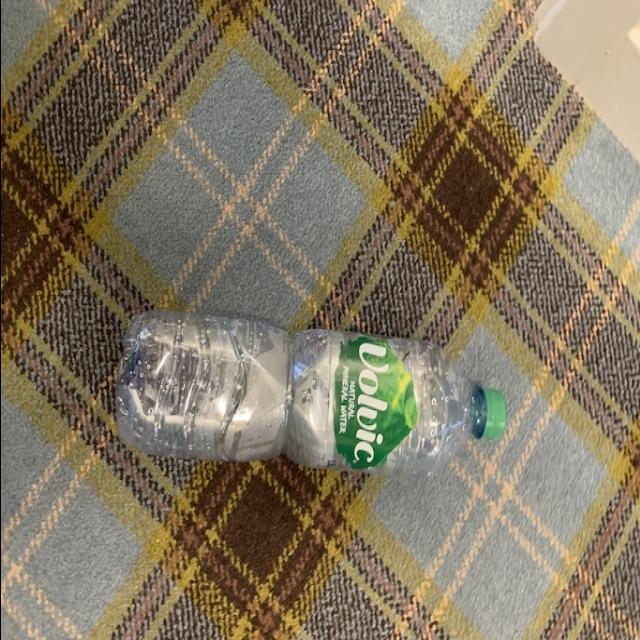litter: (112, 320, 516, 470)
